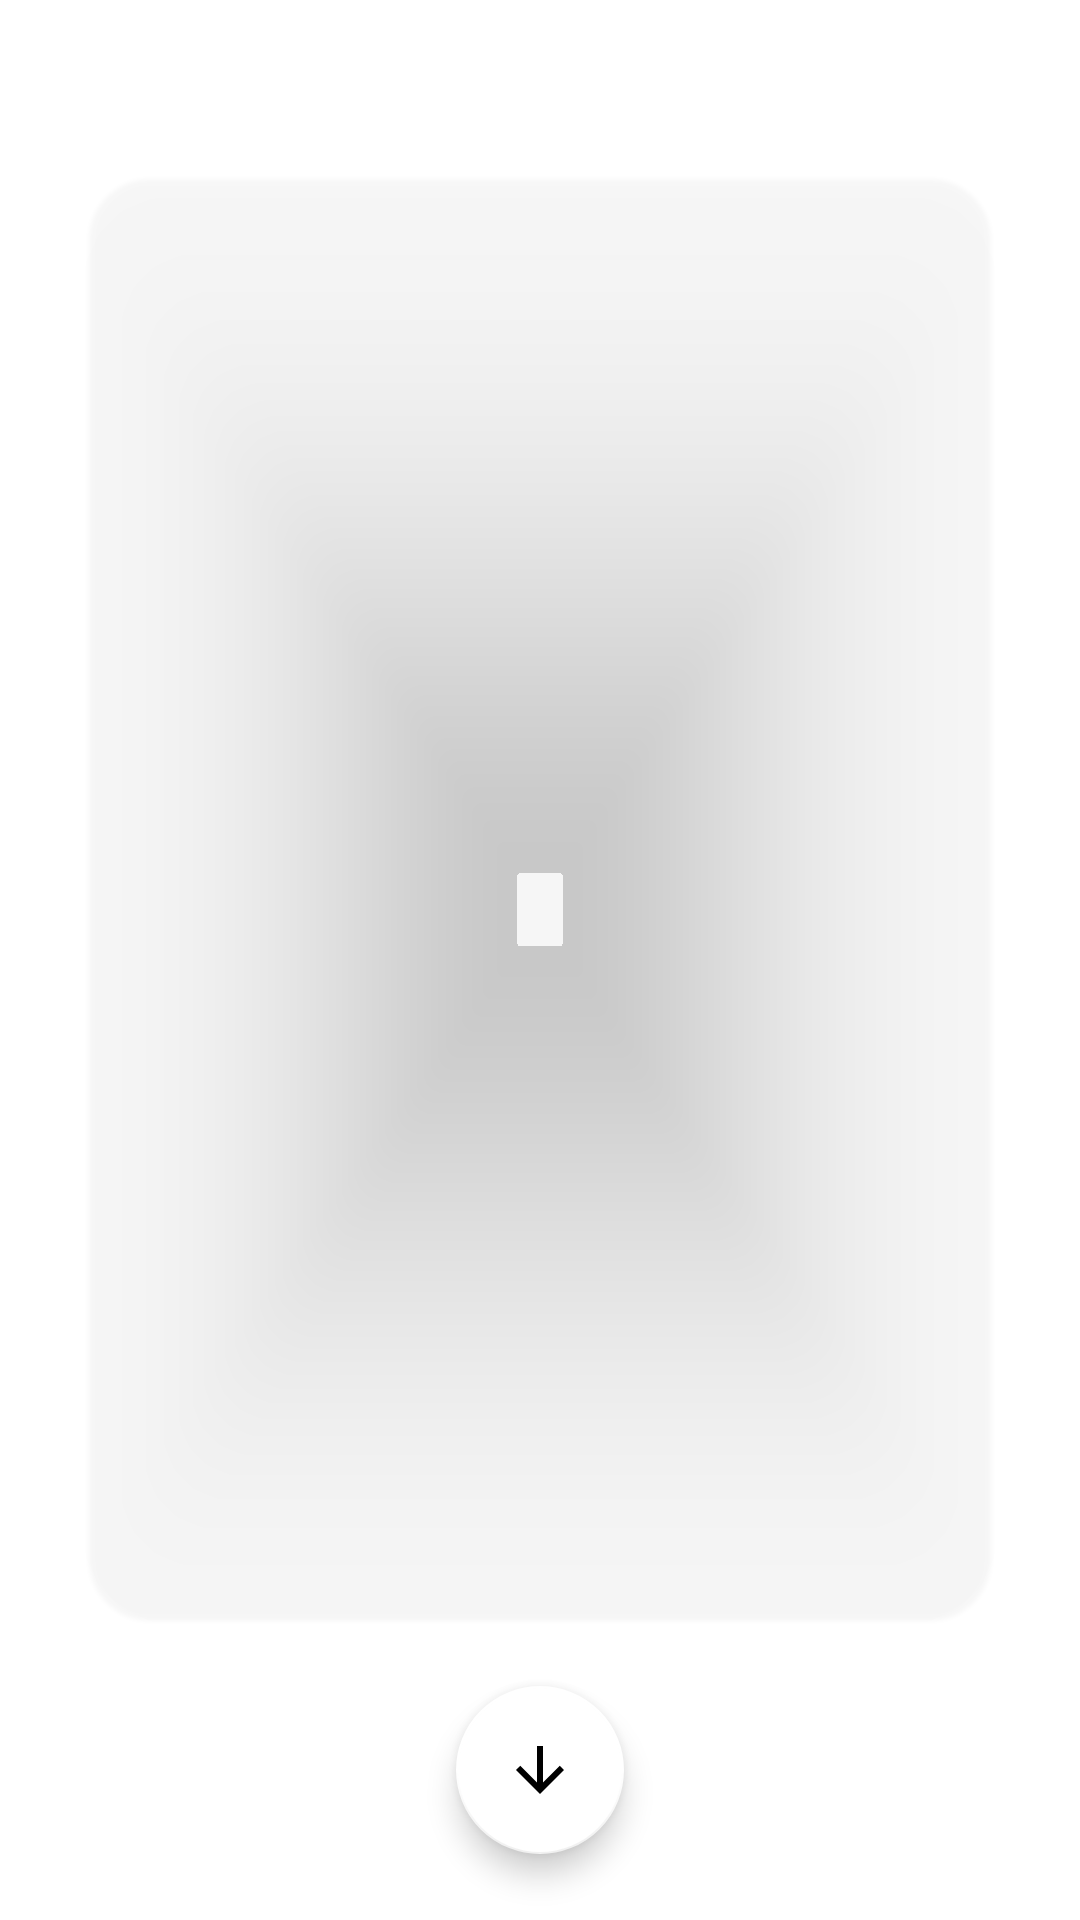

Locate icon controls on the screen. Image size 1080 × 1920, boxes as (x1, y1, x2, y2).
arrow downward: (457, 1746, 624, 1854)
